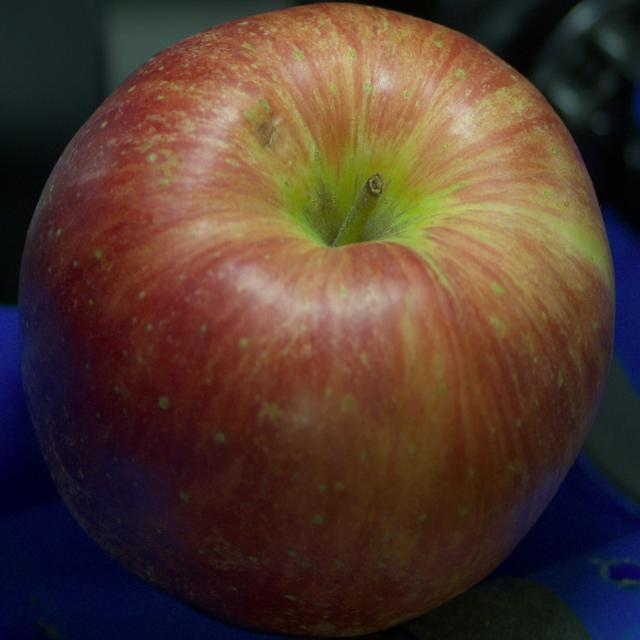apple: (19, 4, 614, 635)
scratch: (267, 126, 276, 146)
